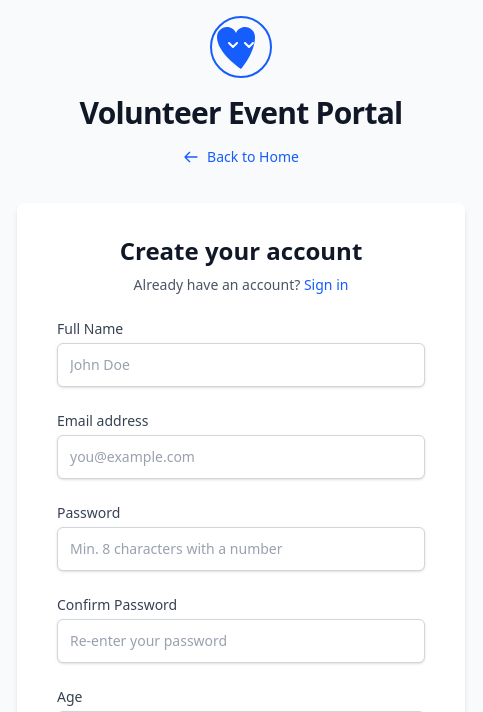
Scenario: RegisterPage › shows validation error for password without a number
Type "password" into the password field labelled "Password" at x=241, y=549, box [57,527,425,571]
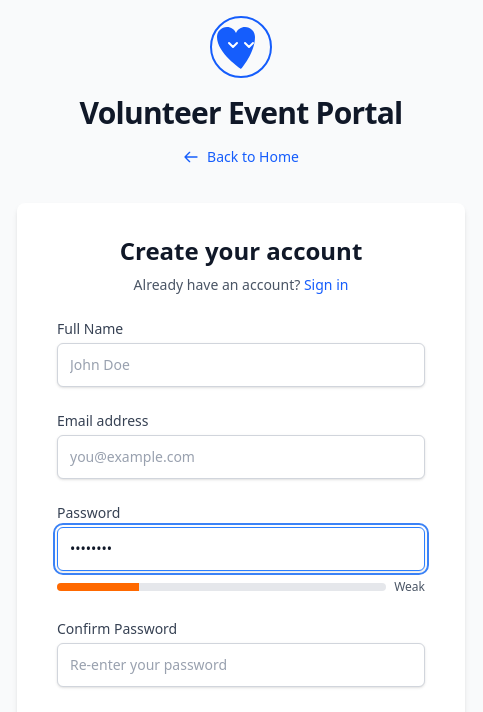
Press Tab
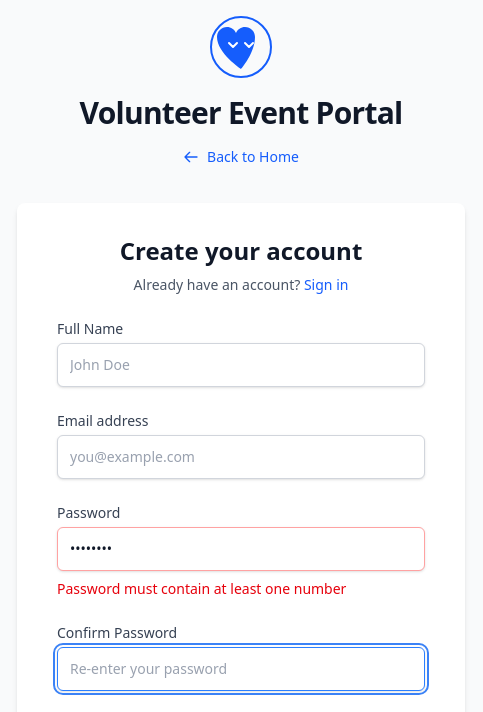
Result: the text "Password must contain at least one number" is shown at [57,579,346,598]
